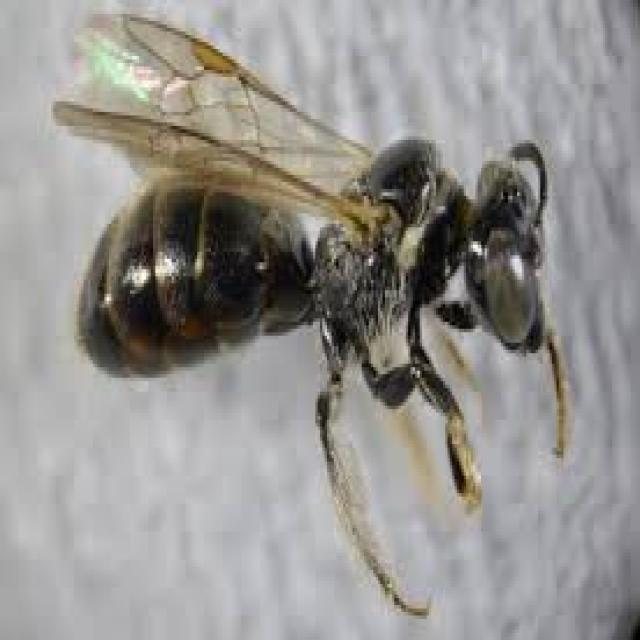Braunsapis: (23, 1, 618, 606)
